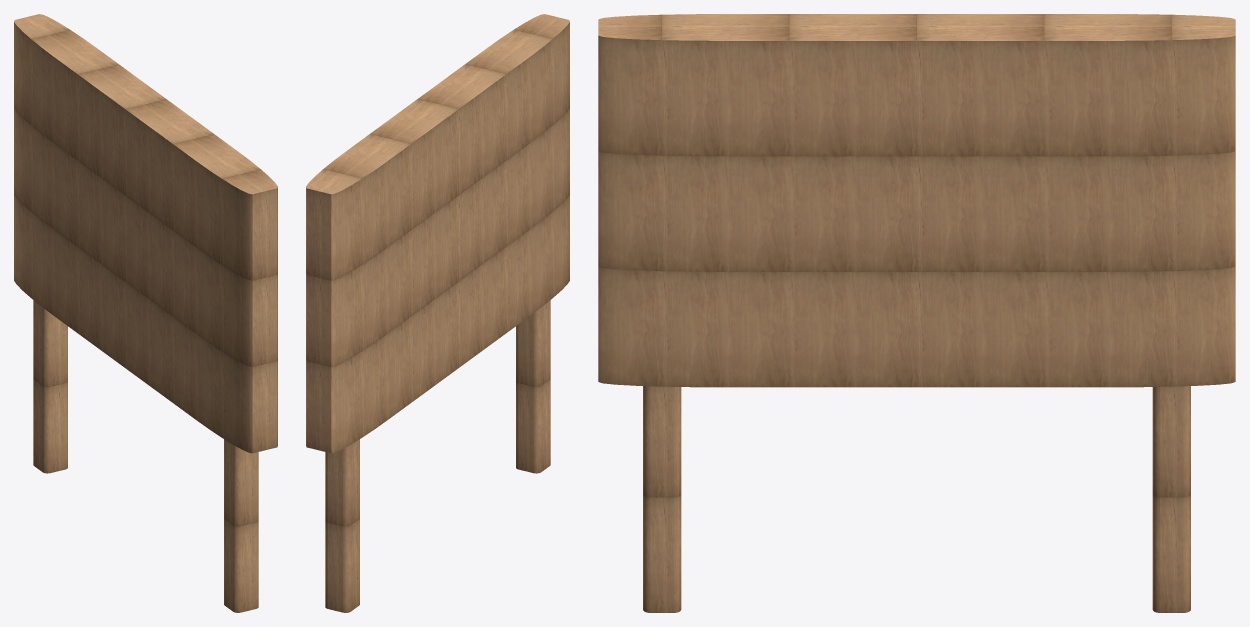
File: PannelBoard.fbx
The picture shows the model from 3 angles, left to right: view 1: azimuth 30°, elevation 25°; view 2: azimuth 150°, elevation 25°; view 3: azimuth 270°, elevation 25°; orthographic projection. The views are drawn at different scales.
Parts seen in each view (by area): view 1: cylinderSquare (×3); view 2: cylinderSquare (×3); view 3: cylinderSquare (×3).
Part boxes in pixels (x1,y1,x2,y2): cylinderSquare (×3): (14,14,277,612); cylinderSquare (×3): (306,14,569,612); cylinderSquare (×3): (598,14,1235,612).
Size of the model in its own units: 5 by 50 by 50.
2 materials, 2 textured.
